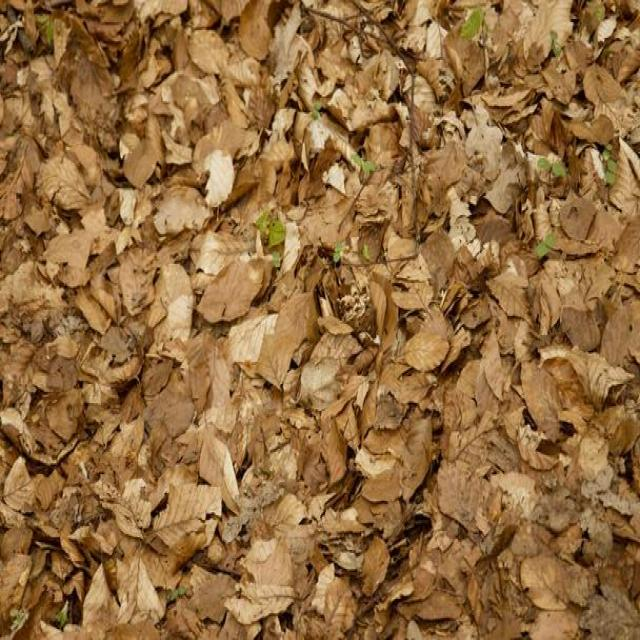organic waste: (5, 11, 636, 638)
